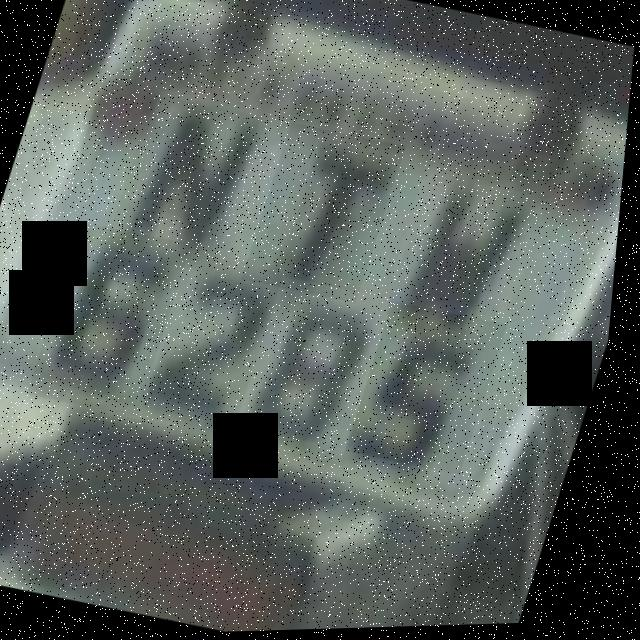2: (127, 246, 306, 443)
5: (352, 301, 515, 481)
6: (32, 220, 197, 420)
8: (236, 275, 400, 468)
N: (106, 93, 265, 277)
T: (244, 121, 410, 308)
W: (385, 148, 533, 337)
